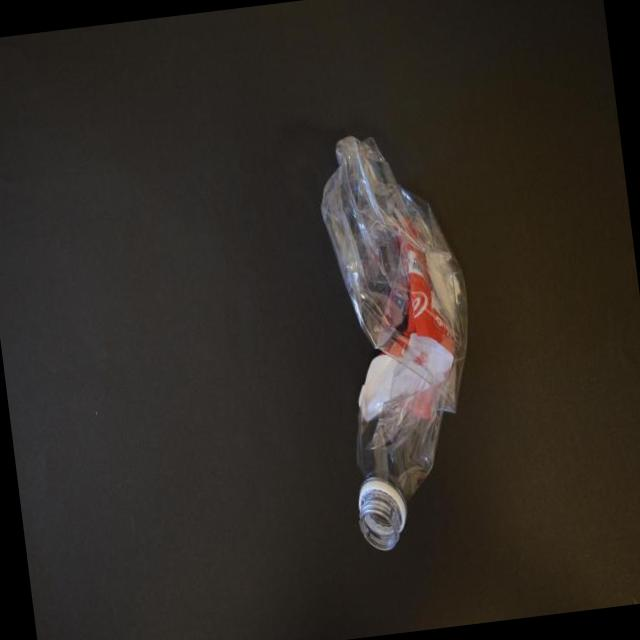plastic_bottle: (311, 123, 498, 554)
